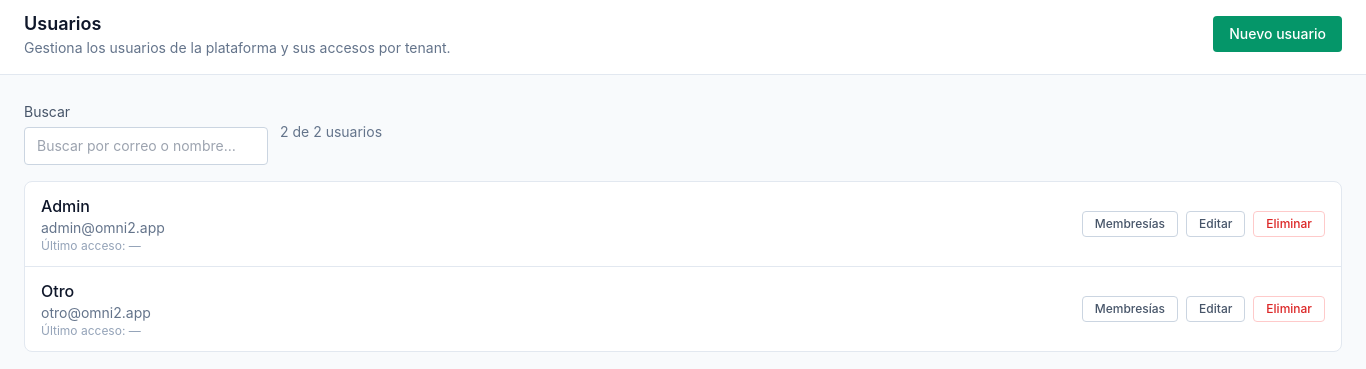
Scenario: UsersSection › filtra los usuarios por búsqueda de correo o nombre
expect the text "Admin" is shown: met, box [41,194,90,218]
Type "otro" into the search field labelled "Buscar". click: [146, 146]
box: [24,127,268,165]
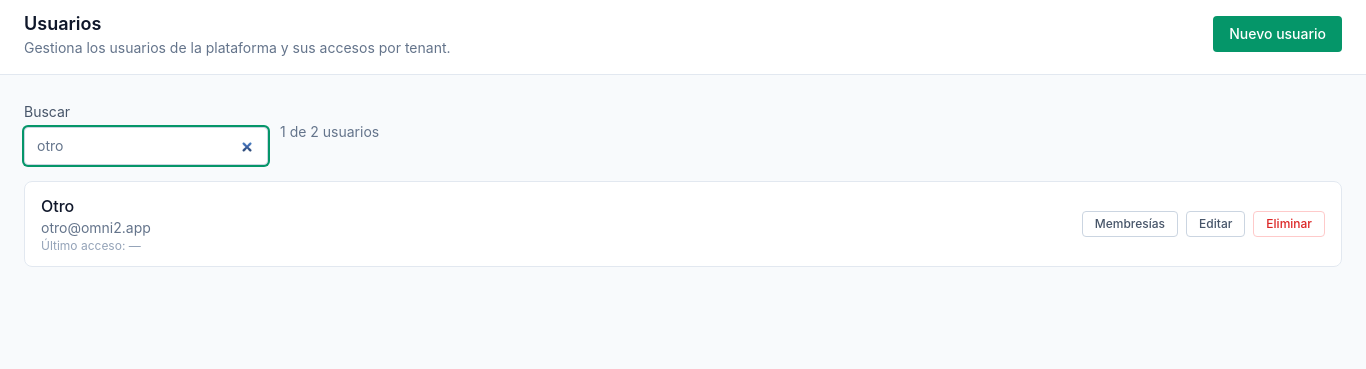
expect the text "Otro" is shown: met, box [41,194,74,218]
expect the text "Admin" is gone: met
expect the text "1 de 2 usuarios" is shown: met, box [280,122,379,142]
